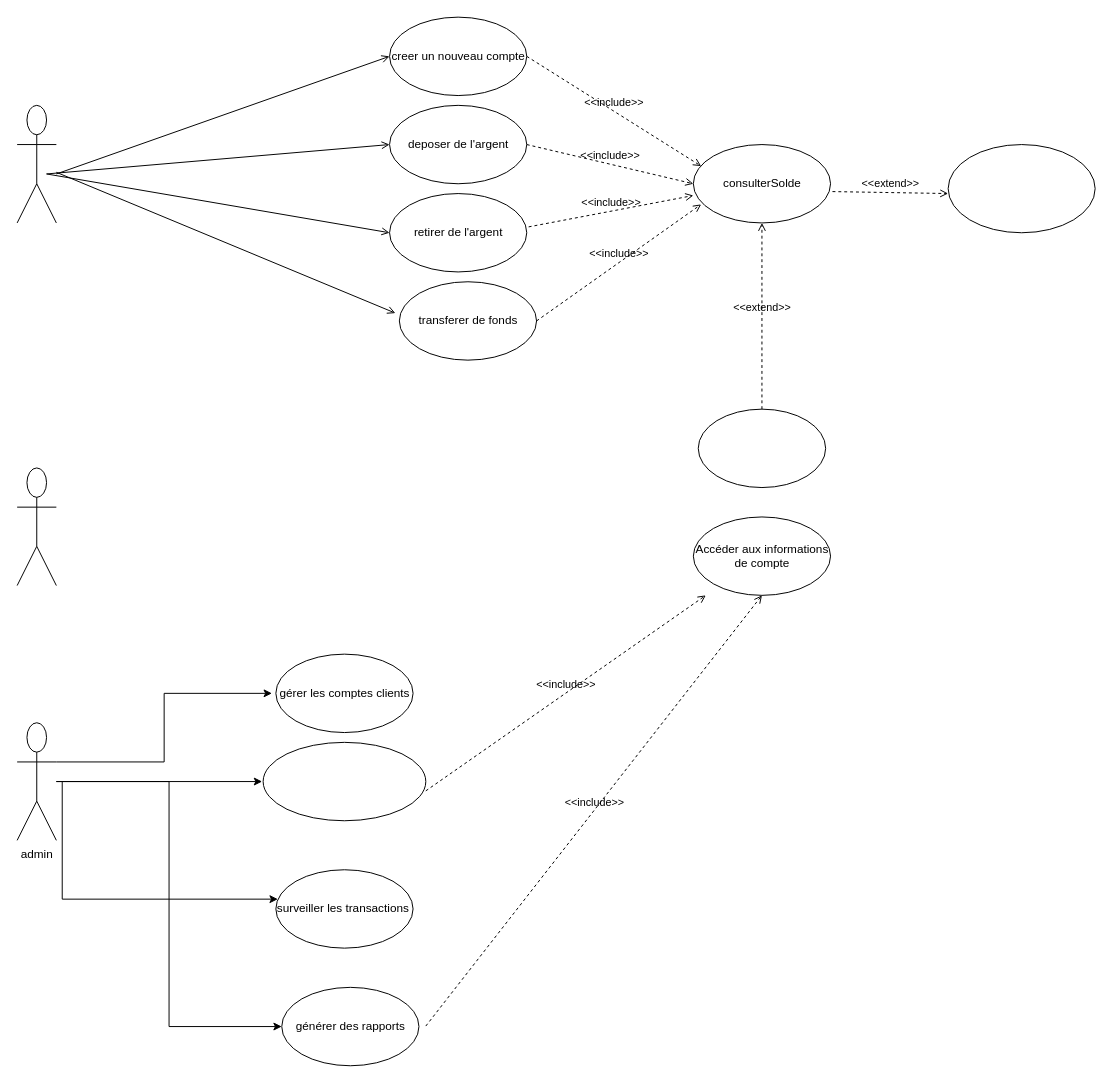
Some shapes in this 1112 by 1083 pixel diagram are drawn without their labels. The box of each missing label's shape, as (x1, y1, x2, y2) in pixels:
caissier: (16, 467, 56, 586)
client: (16, 104, 56, 223)
demander des relevés de compte: (947, 144, 1095, 233)
générer des relevés de compte: (697, 408, 826, 488)
mettre à jour les informations clients: (262, 741, 426, 821)
